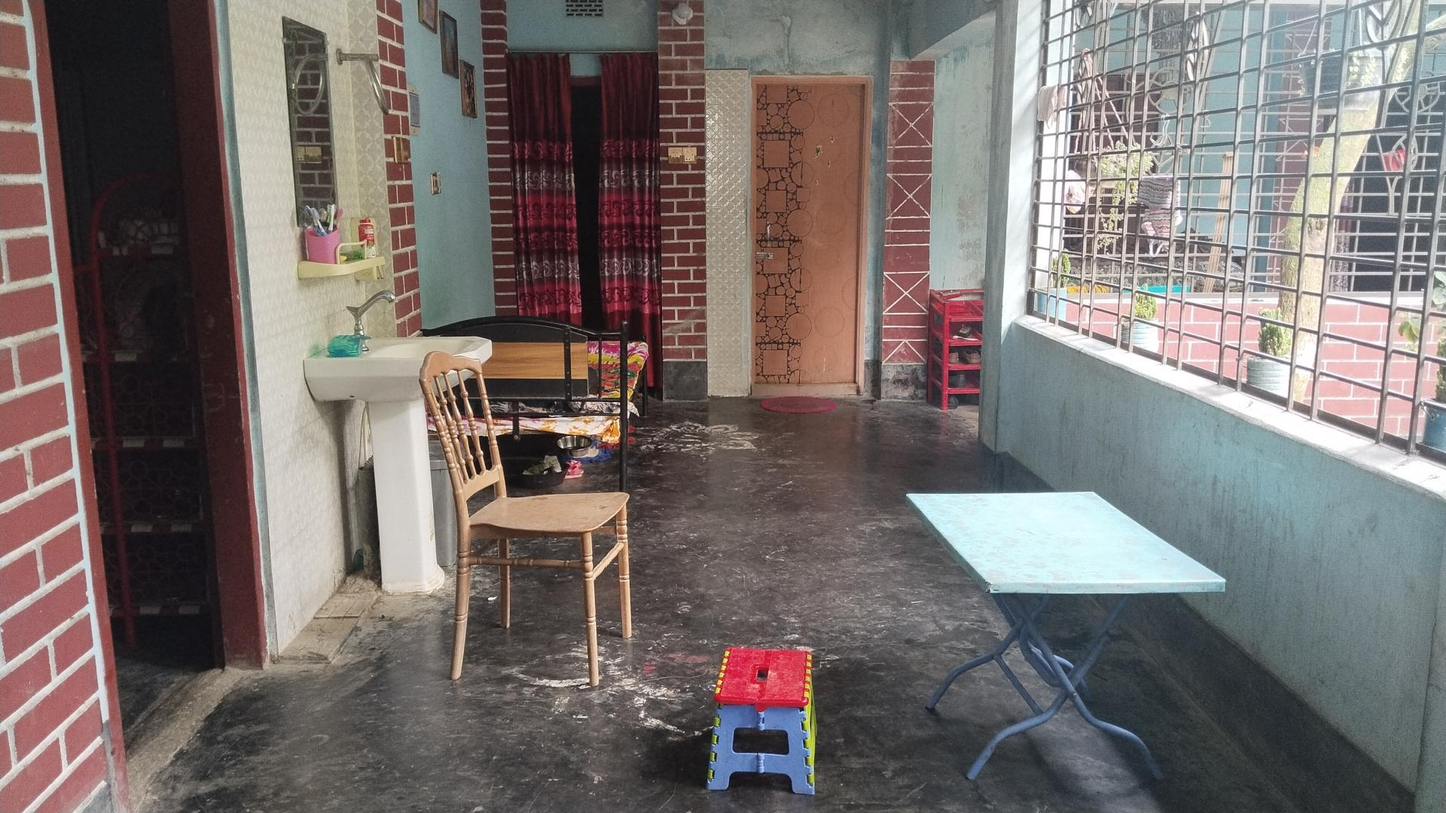Chair: (414, 347, 640, 672)
Door: (750, 78, 864, 383)
Stool: (708, 642, 820, 793)
Table: (904, 477, 1227, 779)
